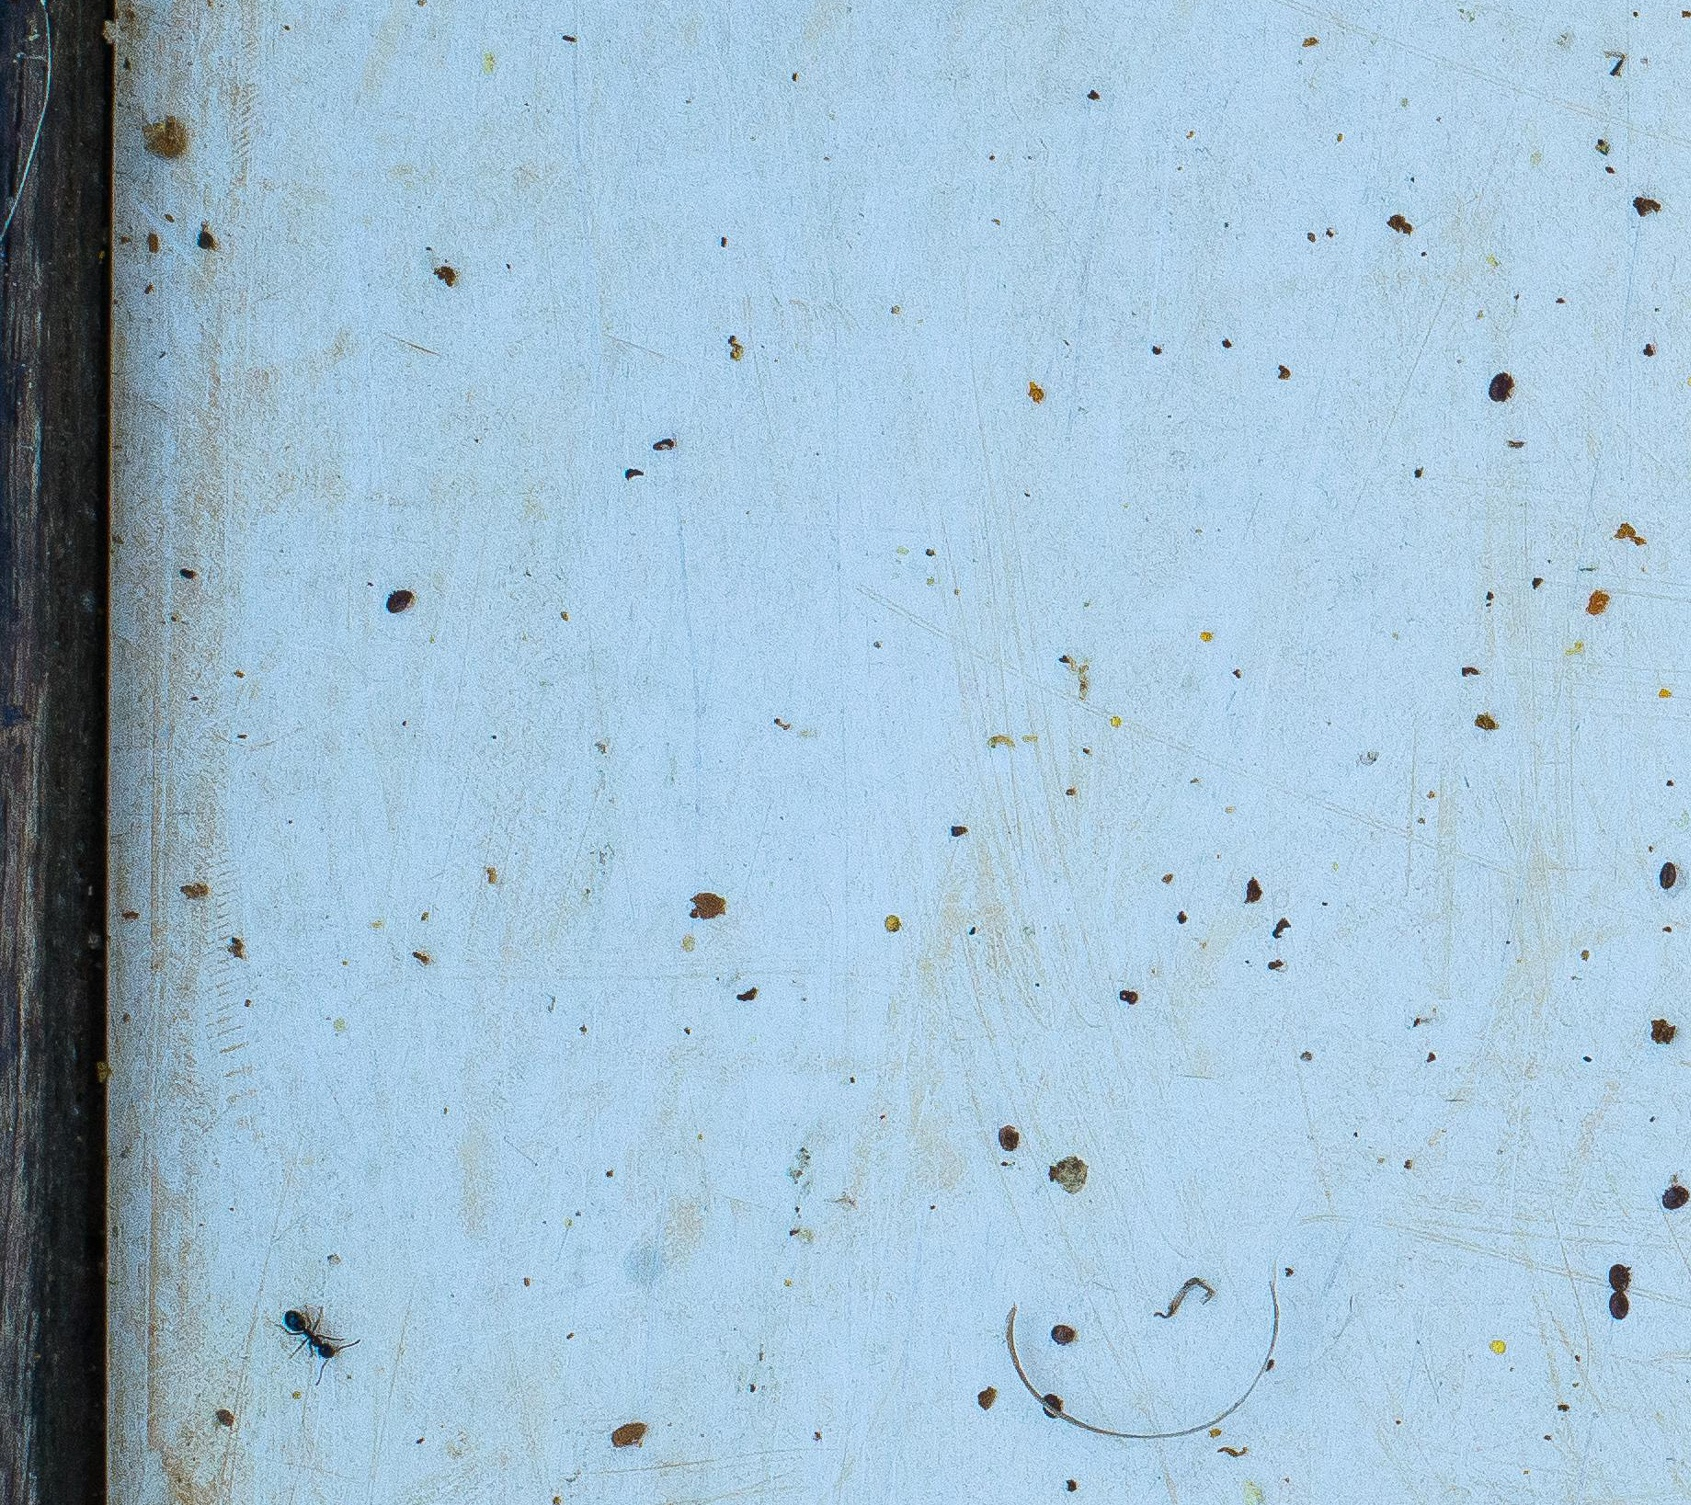Varroa: (991, 1117, 1030, 1156), (1652, 864, 1682, 896), (1604, 1264, 1634, 1294), (1488, 369, 1517, 399), (1605, 1294, 1634, 1325), (384, 585, 413, 616), (1660, 1178, 1690, 1204), (1052, 1322, 1075, 1347)
